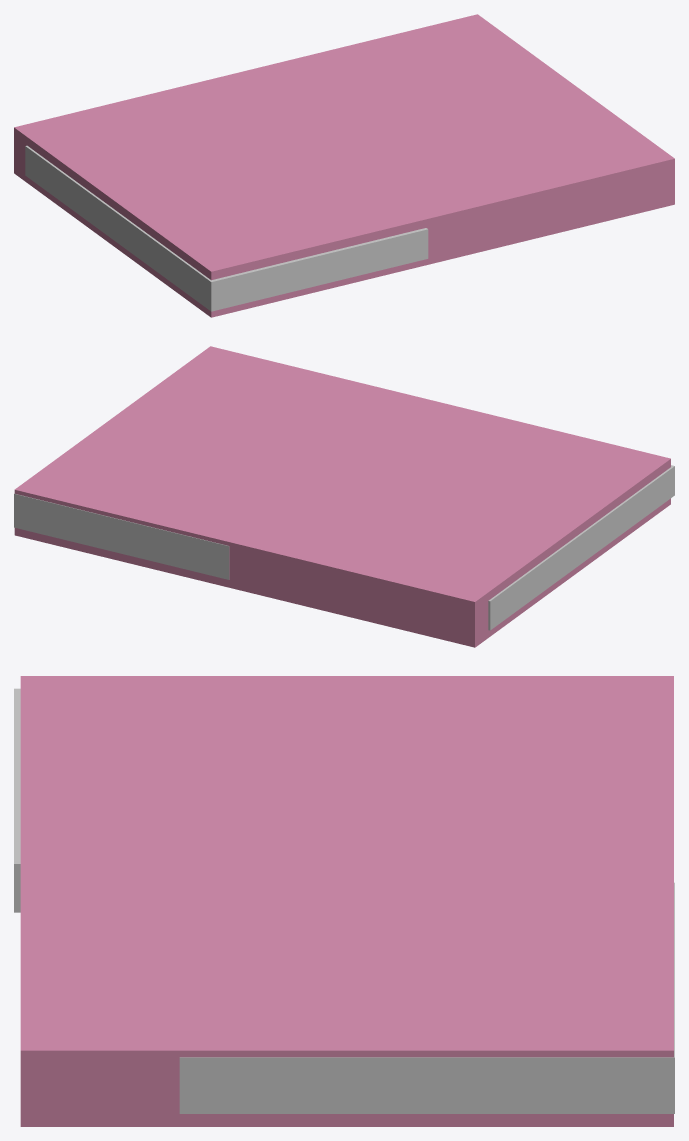
The model's file is port_base_01_b.dae.
3 renders of one model, top to bottom at view 1: azimuth 30°, elevation 25°; view 2: azimuth 150°, elevation 25°; view 3: azimuth 270°, elevation 25°, orthographic. The views are drawn at different scales.
Visible parts, largest first — view 1: Untitled, tree_oak_bush_a250; view 2: Untitled, tree_oak_bush_a250; view 3: Untitled, tree_oak_bush_a250.
Boxes of the visible parts, x1=… form: Untitled: x1=14, y1=14, x2=674, y2=317; tree_oak_bush_a250: x1=25, y1=145, x2=428, y2=311; Untitled: x1=14, y1=346, x2=670, y2=647; tree_oak_bush_a250: x1=14, y1=465, x2=674, y2=630; Untitled: x1=20, y1=676, x2=673, y2=1126; tree_oak_bush_a250: x1=14, y1=688, x2=674, y2=1113.
Size of the model in its own units: 430 by 319 by 40.55.
